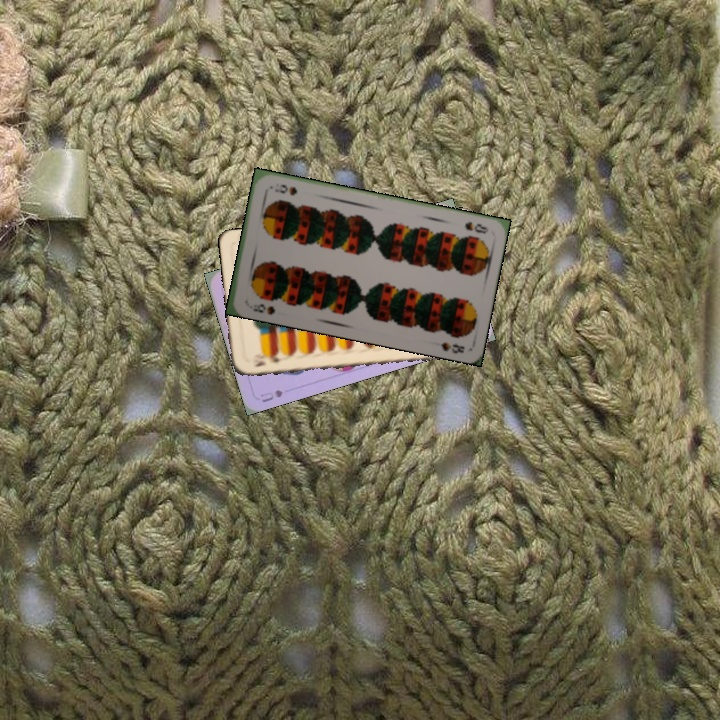E10: (250, 350, 284, 369)
S8: (461, 218, 491, 236), (249, 300, 278, 317)
SU: (256, 385, 285, 405)
